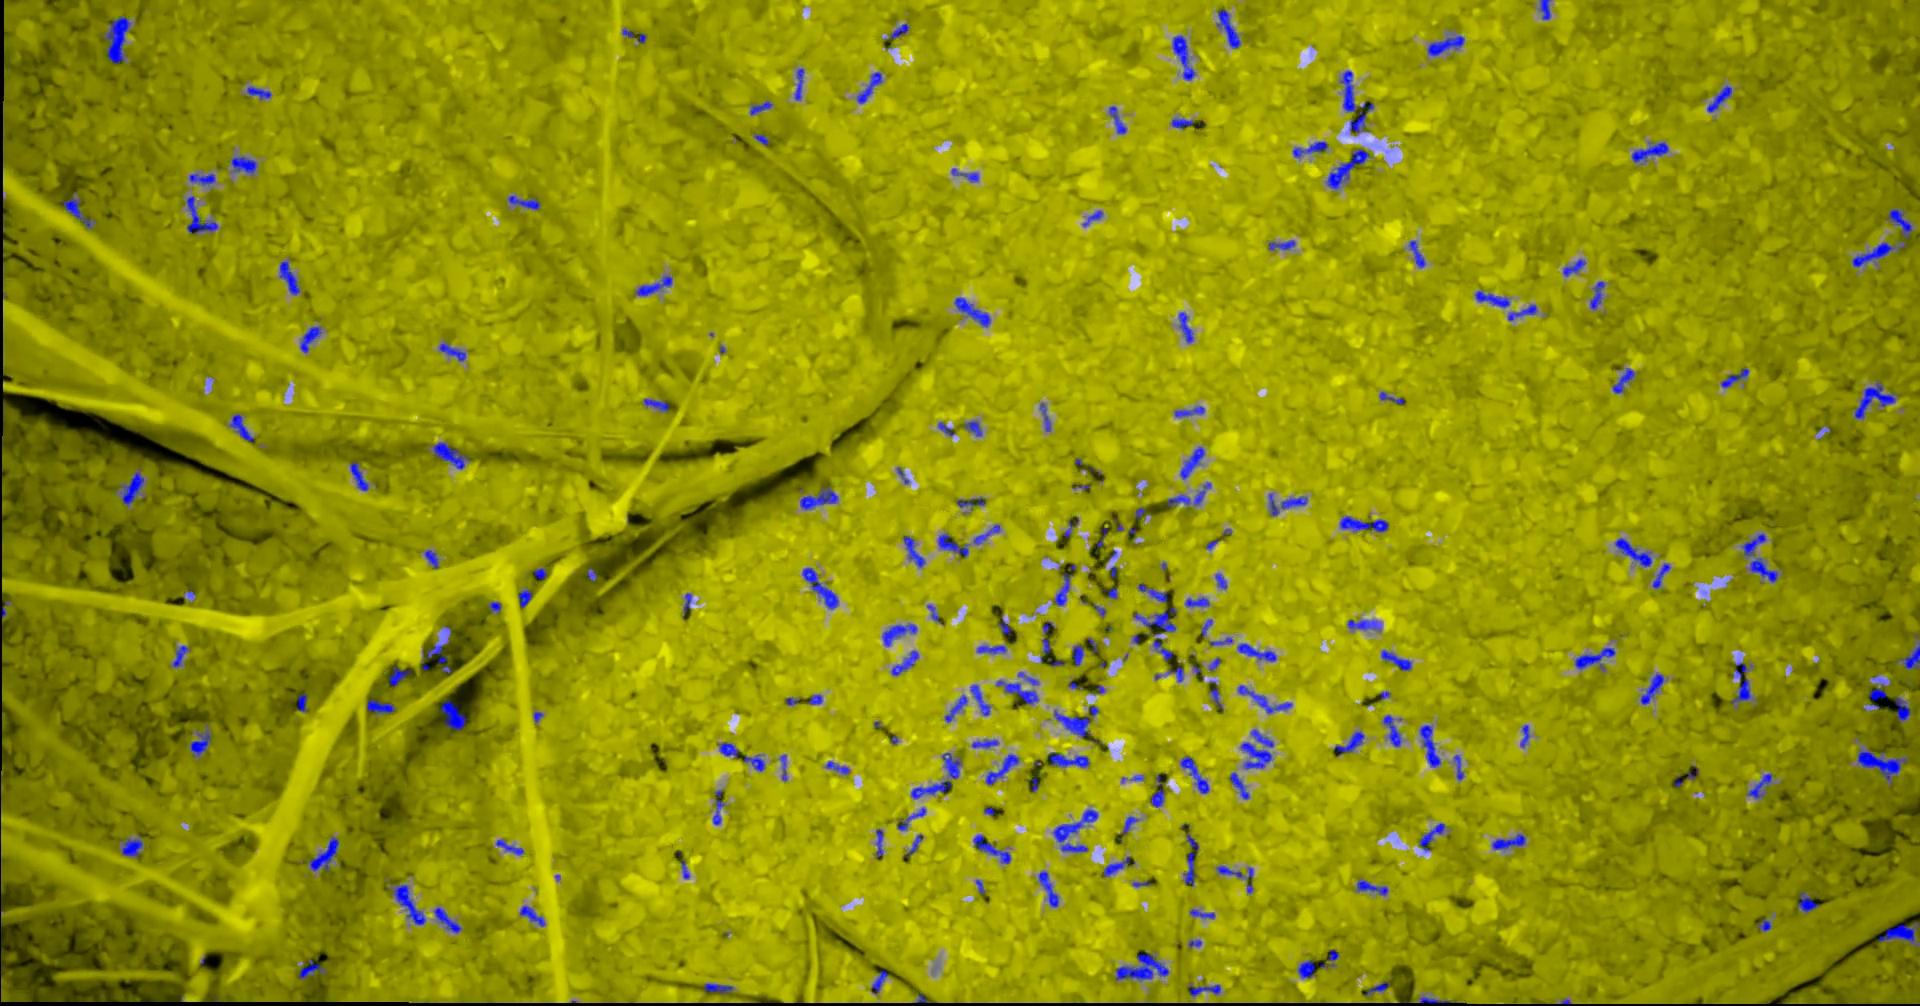ant: (1341, 70, 1375, 133), (1054, 809, 1098, 852), (1328, 149, 1371, 189), (804, 567, 841, 608), (1117, 951, 1170, 981), (1857, 382, 1897, 419), (1239, 685, 1293, 713), (1859, 749, 1909, 779), (392, 884, 427, 923), (1853, 243, 1907, 267), (1242, 729, 1275, 768), (105, 15, 132, 64), (188, 196, 218, 232), (955, 297, 992, 326), (1617, 537, 1653, 567), (1167, 481, 1211, 506), (1135, 607, 1178, 631), (311, 836, 340, 871), (434, 441, 471, 469), (1182, 756, 1210, 793), (975, 835, 1012, 862), (1218, 865, 1255, 893), (1043, 621, 1065, 666), (987, 753, 1020, 784), (1057, 709, 1092, 737), (1175, 36, 1196, 80), (998, 680, 1040, 702), (1421, 724, 1443, 767), (1576, 647, 1617, 669), (801, 485, 839, 509), (1219, 9, 1242, 48), (63, 197, 93, 227), (1057, 563, 1077, 605), (1270, 493, 1309, 514), (1181, 446, 1206, 479), (884, 622, 918, 647), (1733, 662, 1754, 702), (1879, 922, 1920, 942), (1341, 514, 1390, 531), (424, 644, 452, 673), (1633, 141, 1670, 163), (1185, 833, 1200, 885), (122, 471, 145, 506), (442, 700, 469, 729), (858, 71, 883, 103), (230, 413, 257, 441), (1421, 823, 1448, 851), (1335, 730, 1365, 754), (938, 533, 970, 556), (912, 780, 952, 798), (436, 907, 463, 932), (1429, 36, 1465, 55), (1642, 673, 1665, 704), (1040, 871, 1060, 906), (904, 535, 926, 567), (1708, 85, 1733, 112), (637, 276, 673, 295), (1239, 643, 1277, 661), (1751, 558, 1779, 582), (281, 260, 301, 293), (1103, 856, 1137, 876), (1890, 208, 1912, 238), (1382, 649, 1413, 669), (971, 683, 992, 715), (893, 650, 919, 674), (899, 807, 927, 829), (1476, 290, 1511, 307), (1050, 752, 1091, 767), (1749, 774, 1774, 798), (946, 695, 969, 721), (300, 958, 328, 979), (1294, 141, 1330, 158), (1139, 583, 1170, 602), (190, 729, 213, 754), (1384, 714, 1402, 746), (350, 461, 370, 490), (1743, 533, 1768, 556), (301, 326, 323, 352), (1614, 367, 1636, 392), (521, 904, 546, 926), (1230, 772, 1251, 799), (1722, 368, 1750, 387), (1156, 633, 1175, 661), (1901, 641, 1920, 669), (1493, 833, 1528, 848), (943, 752, 963, 779), (1110, 105, 1128, 133), (975, 525, 1001, 544), (1357, 880, 1389, 895), (1509, 304, 1538, 320), (441, 342, 467, 359), (1152, 774, 1166, 807), (232, 156, 258, 174), (1655, 563, 1672, 588), (509, 196, 541, 210), (1411, 240, 1427, 267), (390, 666, 411, 686), (123, 836, 143, 857), (1798, 890, 1820, 911), (905, 835, 924, 857), (872, 969, 890, 993), (1591, 281, 1606, 309), (1180, 311, 1194, 342), (1564, 258, 1587, 276), (886, 23, 910, 39), (1896, 696, 1912, 720), (714, 790, 725, 824), (1211, 681, 1225, 709), (368, 699, 396, 713), (497, 840, 524, 854), (1870, 687, 1888, 709), (1349, 619, 1382, 630), (1189, 984, 1222, 996), (173, 645, 190, 666), (952, 168, 980, 180), (645, 398, 670, 412), (1299, 959, 1317, 978), (1421, 996, 1459, 1005), (745, 754, 766, 771), (248, 86, 273, 99), (190, 173, 216, 185), (1065, 514, 1079, 537), (1368, 981, 1390, 995), (1084, 210, 1103, 226), (1176, 406, 1206, 417), (720, 742, 740, 757), (1382, 391, 1406, 404), (1041, 401, 1051, 431), (705, 983, 734, 993), (1123, 815, 1139, 833), (750, 102, 773, 114), (827, 761, 850, 774), (957, 497, 985, 507), (999, 614, 1013, 634), (796, 69, 805, 100), (965, 420, 983, 436), (519, 589, 535, 607), (425, 549, 439, 568), (1191, 908, 1217, 918), (938, 420, 956, 434), (973, 739, 1001, 748), (1073, 644, 1084, 666), (1455, 754, 1465, 779), (1270, 240, 1297, 249), (978, 645, 1008, 653), (1170, 666, 1185, 681), (1186, 597, 1211, 606), (1173, 118, 1195, 128), (877, 829, 885, 857), (1523, 724, 1531, 747), (1542, 0, 1552, 19), (781, 754, 789, 780), (1217, 573, 1228, 589), (298, 694, 309, 711), (535, 567, 549, 579), (1759, 918, 1773, 931), (1330, 949, 1340, 965), (489, 601, 502, 614), (756, 133, 770, 145), (809, 694, 824, 704)
